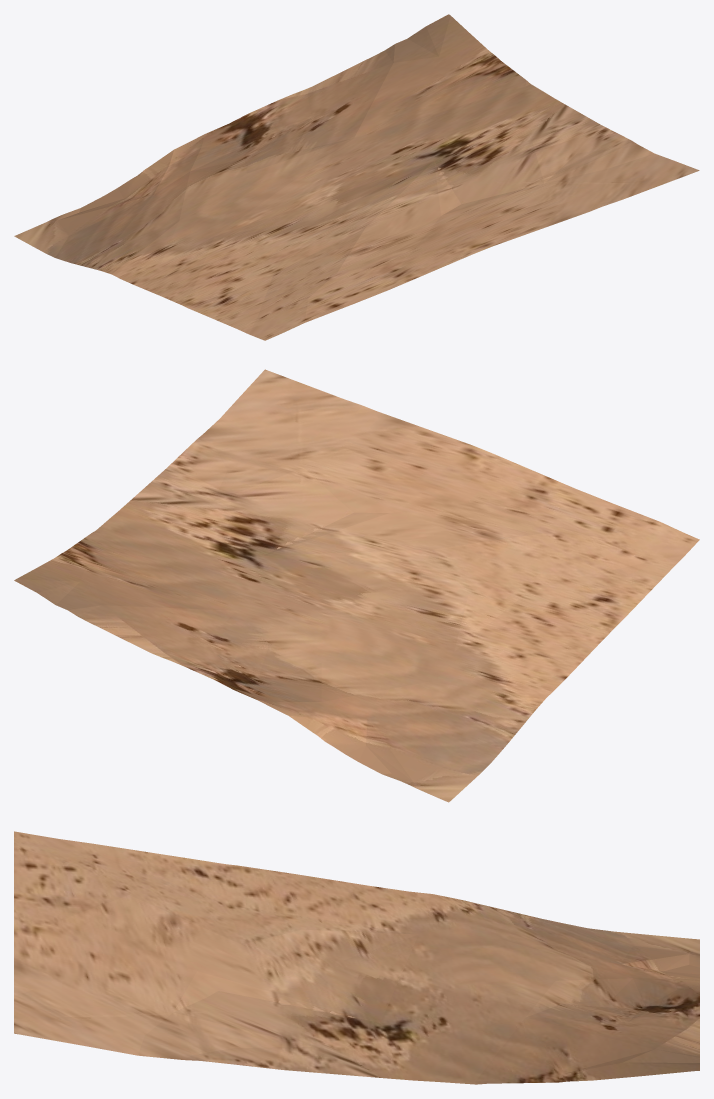
3 views of the same model, one above another, from view 1: azimuth 30°, elevation 25°; view 2: azimuth 150°, elevation 25°; view 3: azimuth 270°, elevation 25° (orthographic). The views are drawn at different scales.
Size of the model in its own units: 1.04 by 0.3286 by 1.04.
3 materials, 3 textured.
